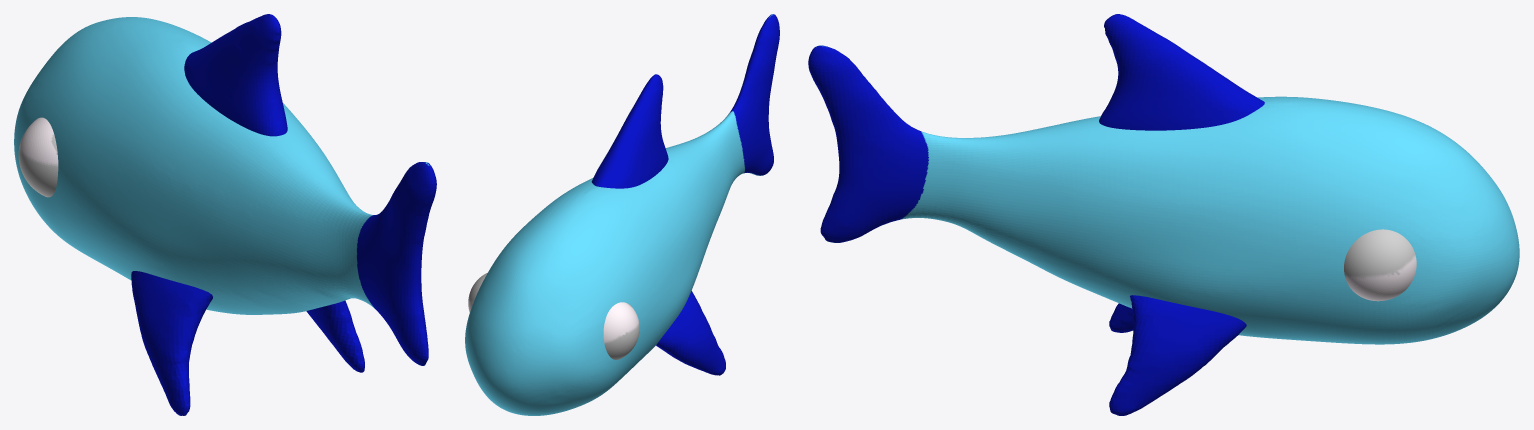
File: petfish_v30.fbx
3 views of the same model, side by side, from view 1: azimuth 30°, elevation 25°; view 2: azimuth 150°, elevation 25°; view 3: azimuth 270°, elevation 25° (orthographic). The views are drawn at different scales.
Parts seen in each view (by area): view 1: body, eye_L; view 2: body, eye_L; view 3: body, eye_R.
Part boxes in pixels (x1=…): body: x1=14, y1=14, x2=436, y2=415; eye_L: x1=18, y1=117, x2=58, y2=197; body: x1=465, y1=14, x2=779, y2=415; eye_L: x1=603, y1=302, x2=639, y2=359; body: x1=808, y1=14, x2=1519, y2=415; eye_R: x1=1344, y1=229, x2=1416, y2=301.
Bounding box in the file's own units: 156 × 258 × 462.
1 material, 1 textured.
